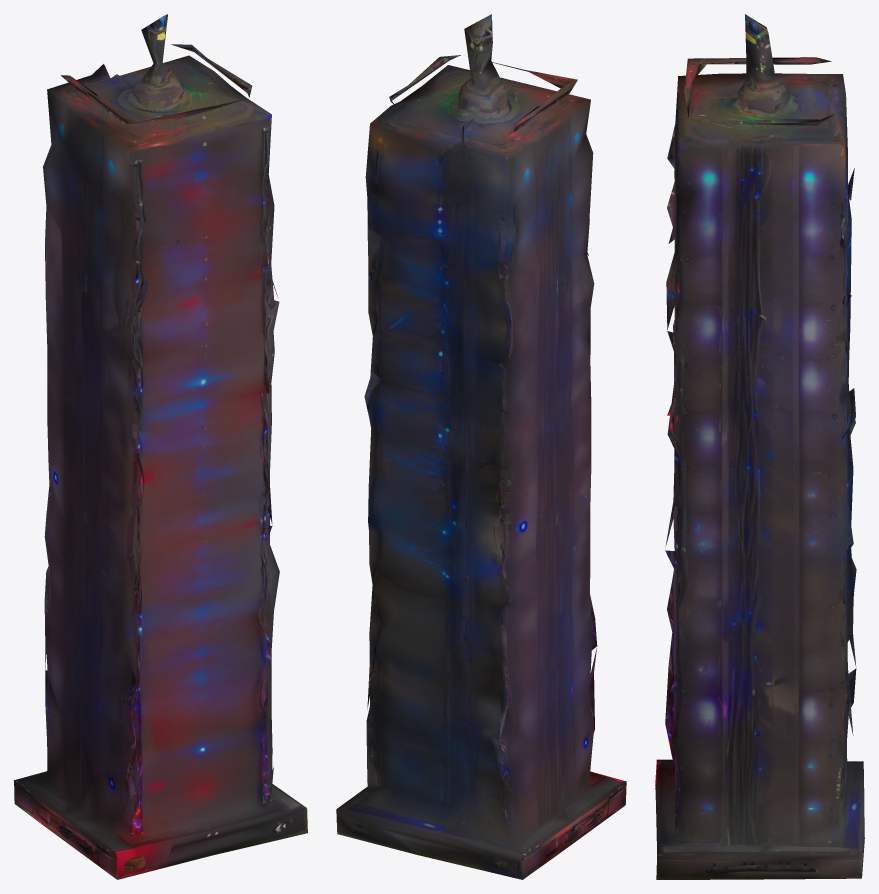
The picture shows the model from 3 angles, left to right: view 1: azimuth 30°, elevation 25°; view 2: azimuth 150°, elevation 25°; view 3: azimuth 270°, elevation 25°; orthographic projection.
Parts seen in each view (by area): view 1: Mesh1.0; view 2: Mesh1.0; view 3: Mesh1.0.
Part boxes in pixels (left/top/right/bottom): Mesh1.0: left=14, top=14, right=307, bottom=879; Mesh1.0: left=336, top=14, right=626, bottom=879; Mesh1.0: left=655, top=14, right=864, bottom=879.
Bounding box in the file's own units: 49.83 × 200 × 46.52.
Materials: 1 (1 with a texture image).
